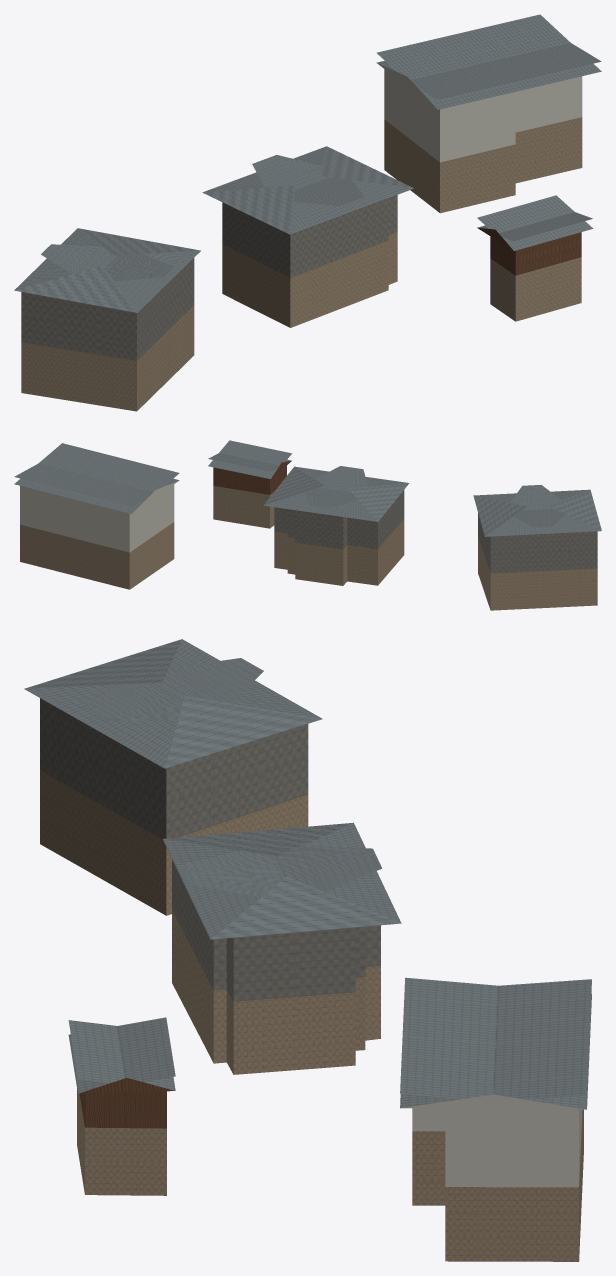
Rendered from bld_c5_10_473.gltf.
The picture shows the model from 3 angles, top to bottom: view 1: azimuth 30°, elevation 25°; view 2: azimuth 150°, elevation 25°; view 3: azimuth 270°, elevation 25°; orthographic projection. The views are drawn at different scales.
Parts seen in each view (by area): view 1: bld_c5_10_473; view 2: bld_c5_10_473; view 3: bld_c5_10_473.
Boxes of the visible parts, x1,y1,x2,y2 form: bld_c5_10_473: [14, 14, 601, 411]; bld_c5_10_473: [14, 440, 601, 610]; bld_c5_10_473: [24, 639, 591, 1261].
Bounding box in the file's own units: 69.79 × 13.2 × 35.28.
Materials: 7 (7 with a texture image).
